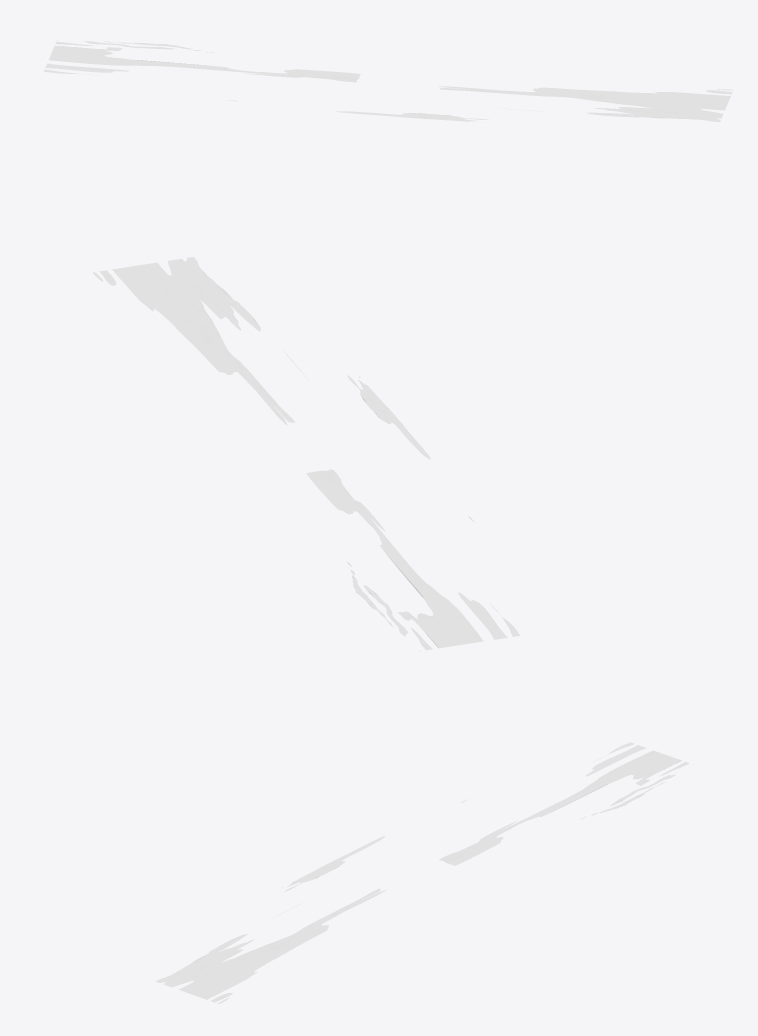
File: shuipian05.FBX
The picture shows the model from 3 angles, top to bottom: view 1: azimuth 30°, elevation 25°; view 2: azimuth 150°, elevation 25°; view 3: azimuth 270°, elevation 25°; orthographic projection. The views are drawn at different scales.
Visible parts, largest first — view 1: Plane011; view 2: Plane011; view 3: Plane011.
Boxes of the visible parts, box(x1,y1,x2,y2) form: Plane011: box(44, 39, 733, 122); Plane011: box(93, 257, 519, 651); Plane011: box(155, 742, 693, 1003).
Size of the model in its own units: 65.47 by 1.78e-14 by 61.27.
